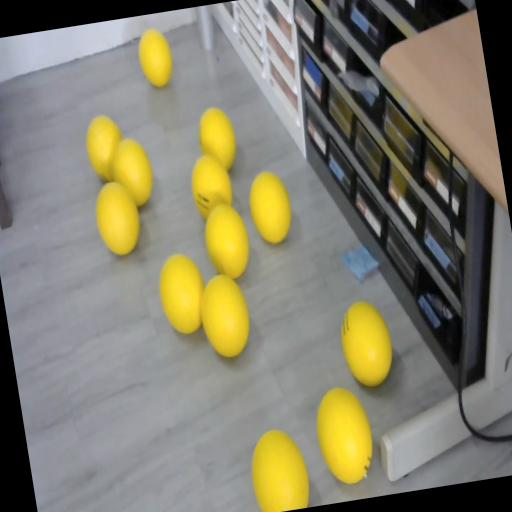FUEL: (309, 382, 379, 487), (243, 423, 312, 512), (335, 296, 397, 390), (194, 270, 255, 360), (153, 250, 211, 336), (198, 198, 254, 282), (90, 176, 144, 258), (244, 168, 295, 246), (82, 112, 128, 182), (194, 104, 240, 172), (134, 24, 176, 90)
